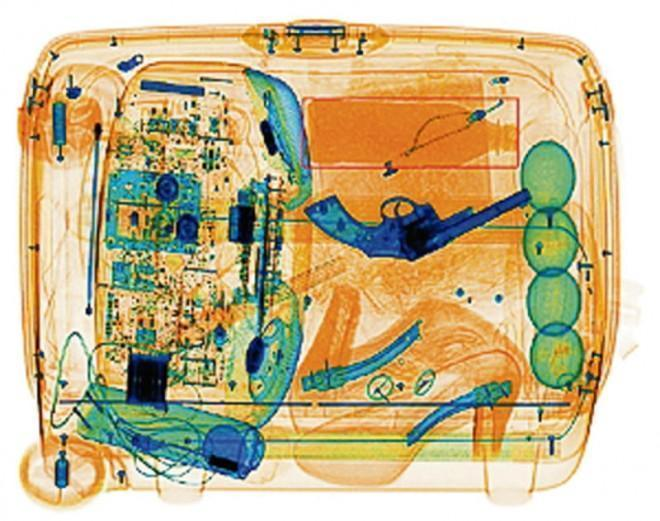Gun: (302, 185, 533, 260)
